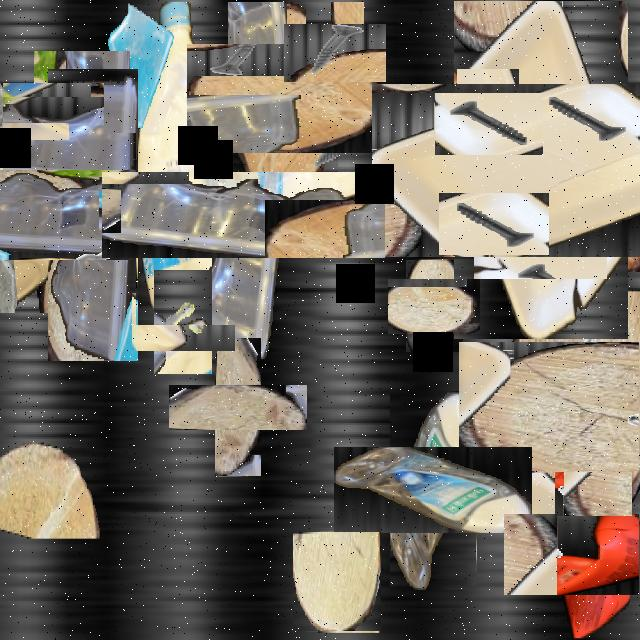glass: (104, 2, 178, 133), (0, 96, 43, 166)
metal: (445, 81, 531, 168), (142, 282, 224, 362), (295, 13, 375, 94), (511, 261, 557, 343), (562, 464, 624, 524), (108, 182, 166, 241)
plastic: (413, 42, 640, 298), (0, 119, 188, 310), (150, 122, 336, 308), (136, 2, 238, 325), (362, 419, 504, 562), (525, 492, 640, 616), (0, 156, 90, 280)
wood: (484, 316, 640, 497), (208, 23, 358, 174), (18, 68, 146, 196), (484, 176, 596, 290), (0, 442, 103, 538), (293, 532, 381, 631), (192, 361, 284, 453), (397, 269, 471, 343), (596, 198, 640, 257)
